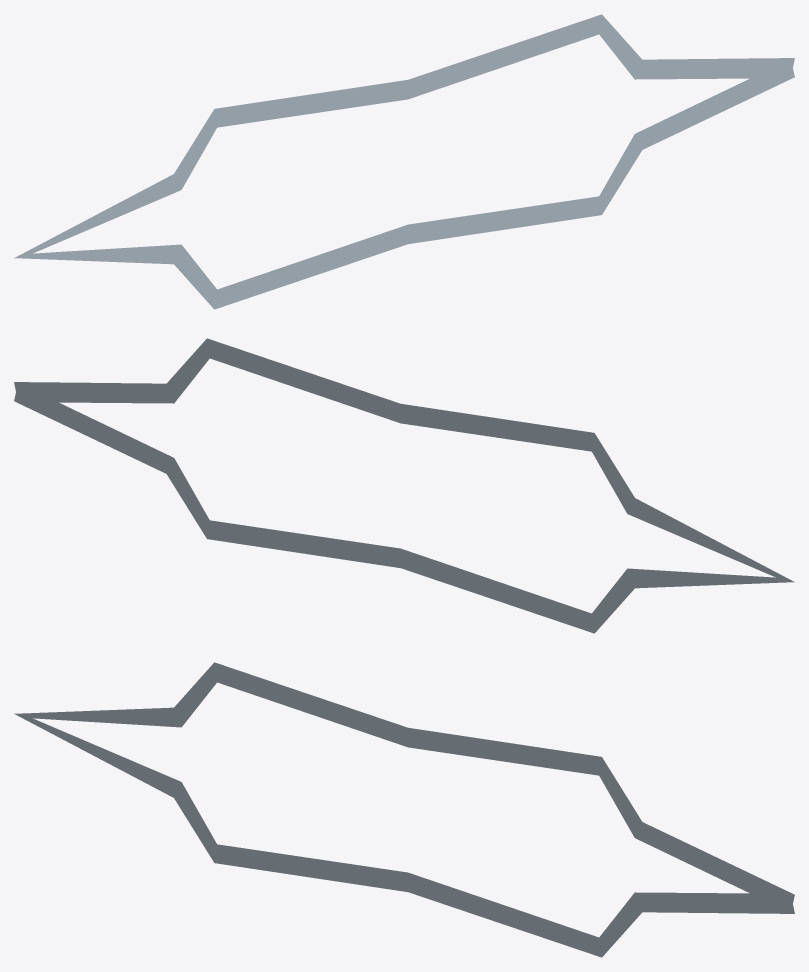
Rendered from AbyssMageRite_Cryo_RiteGlyph.fbx.
3 views of the same model, one above another, from view 1: azimuth 30°, elevation 25°; view 2: azimuth 150°, elevation 25°; view 3: azimuth 330°, elevation 25° (orthographic).
Visible parts, largest first — view 1: PART_RiteGeometricLine; view 2: PART_RiteGeometricLine; view 3: PART_RiteGeometricLine.
Part boxes in pixels (x1,y1,x2,y2): PART_RiteGeometricLine: (14, 14, 794, 309); PART_RiteGeometricLine: (14, 338, 794, 633); PART_RiteGeometricLine: (14, 662, 794, 957).
Bounding box in the file's own units: 191 × 46.88 × 7.64e-06.
